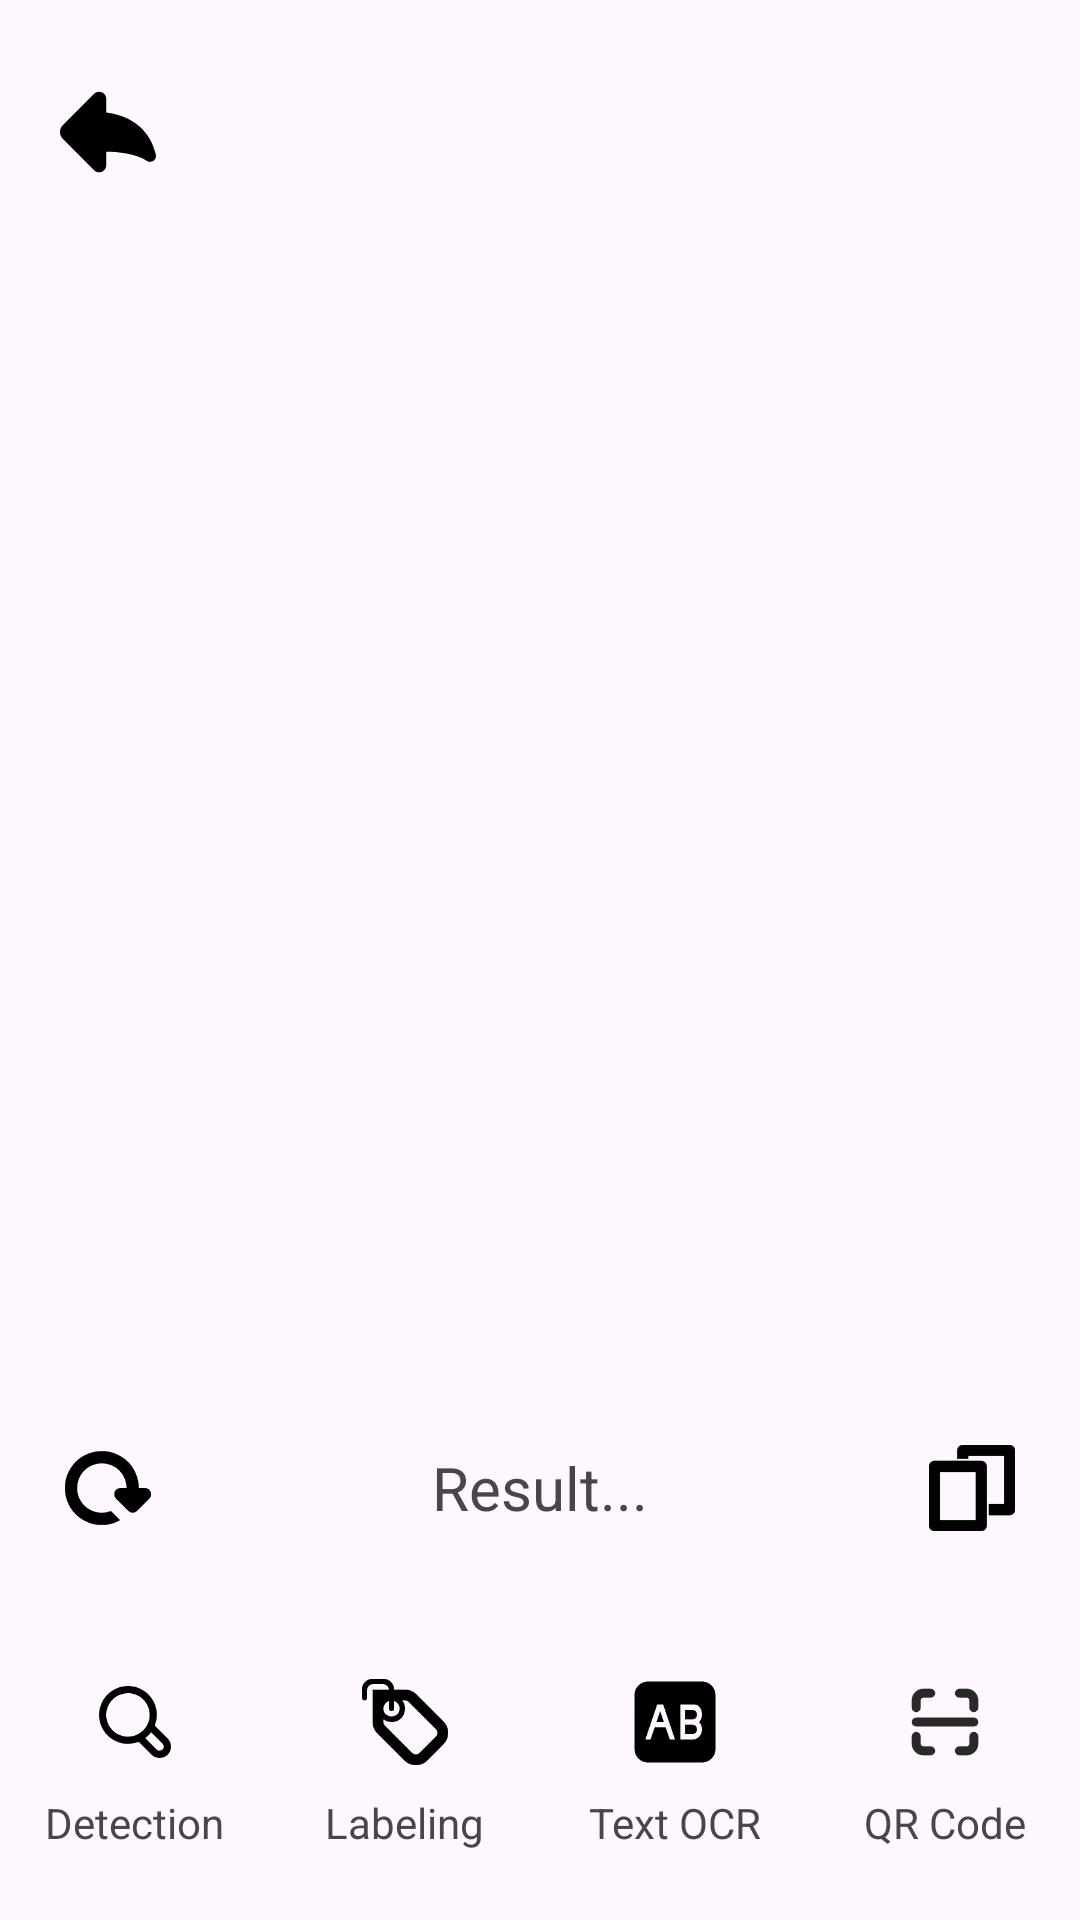

Named icons in this screenshot (1080 × 1920) and their centers, (x=x, y=y):
back: (x=108, y=132)
